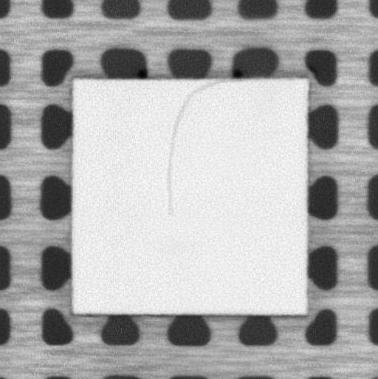DIE_CRACK: (165, 79, 233, 214)
